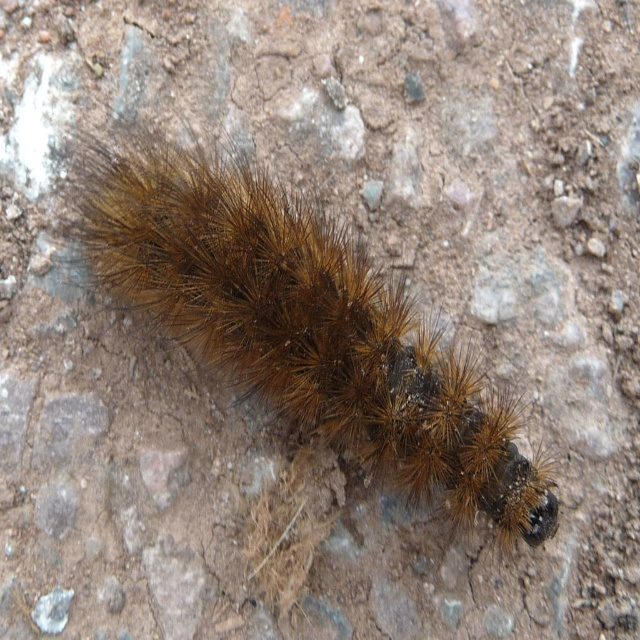Caterpillar: (58, 125, 573, 565)
